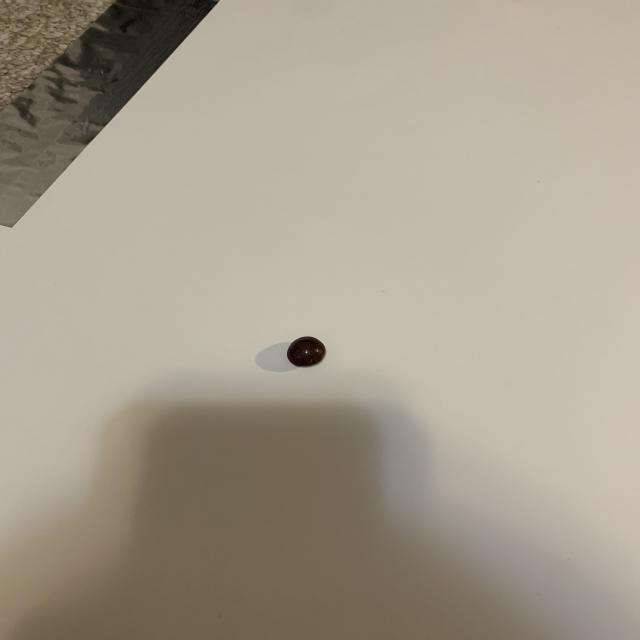smartie: (287, 337, 326, 367)
